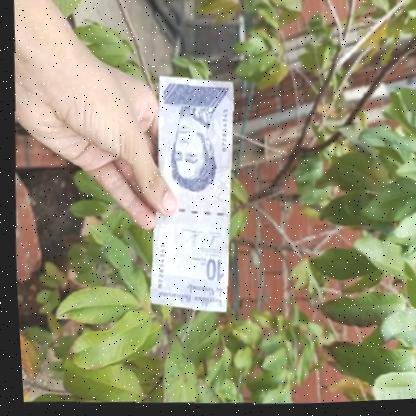ten-front-vef: (134, 73, 245, 317)
